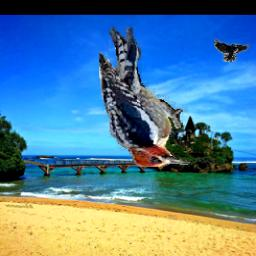Crow: (214, 38, 250, 62)
Woodpecker: (99, 24, 191, 167)
